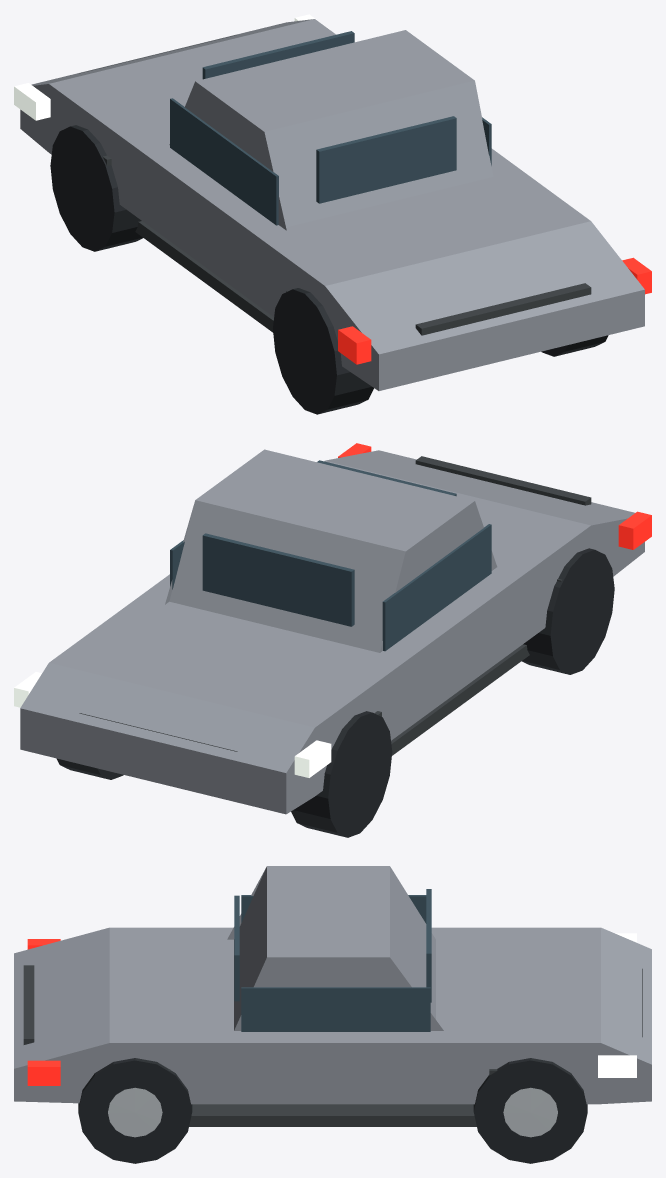
File: toyota-camry-hev-premium.glb
3 views of the same model, one above another, from view 1: azimuth 30°, elevation 25°; view 2: azimuth 150°, elevation 25°; view 3: azimuth 270°, elevation 25° (orthographic). The views are drawn at different scales.
Visible parts, largest first — view 1: toyota-camry-hev-premium illustrative model; view 2: toyota-camry-hev-premium illustrative model; view 3: toyota-camry-hev-premium illustrative model.
Part boxes in pixels (box(x1,y1,x2,y2)): toyota-camry-hev-premium illustrative model: box(14, 14, 651, 414); toyota-camry-hev-premium illustrative model: box(14, 443, 651, 837); toyota-camry-hev-premium illustrative model: box(14, 866, 651, 1163).
Bounding box in the file's own units: 2.02 × 1.41 × 4.25.
